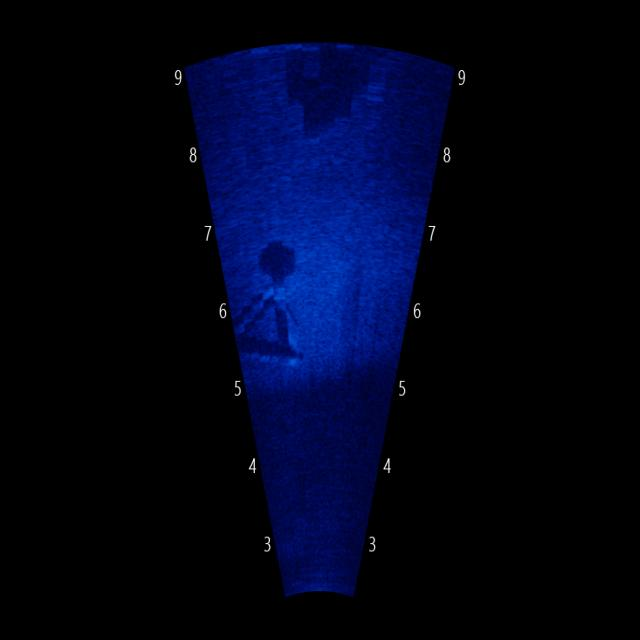triangle: (225, 268, 308, 374)
